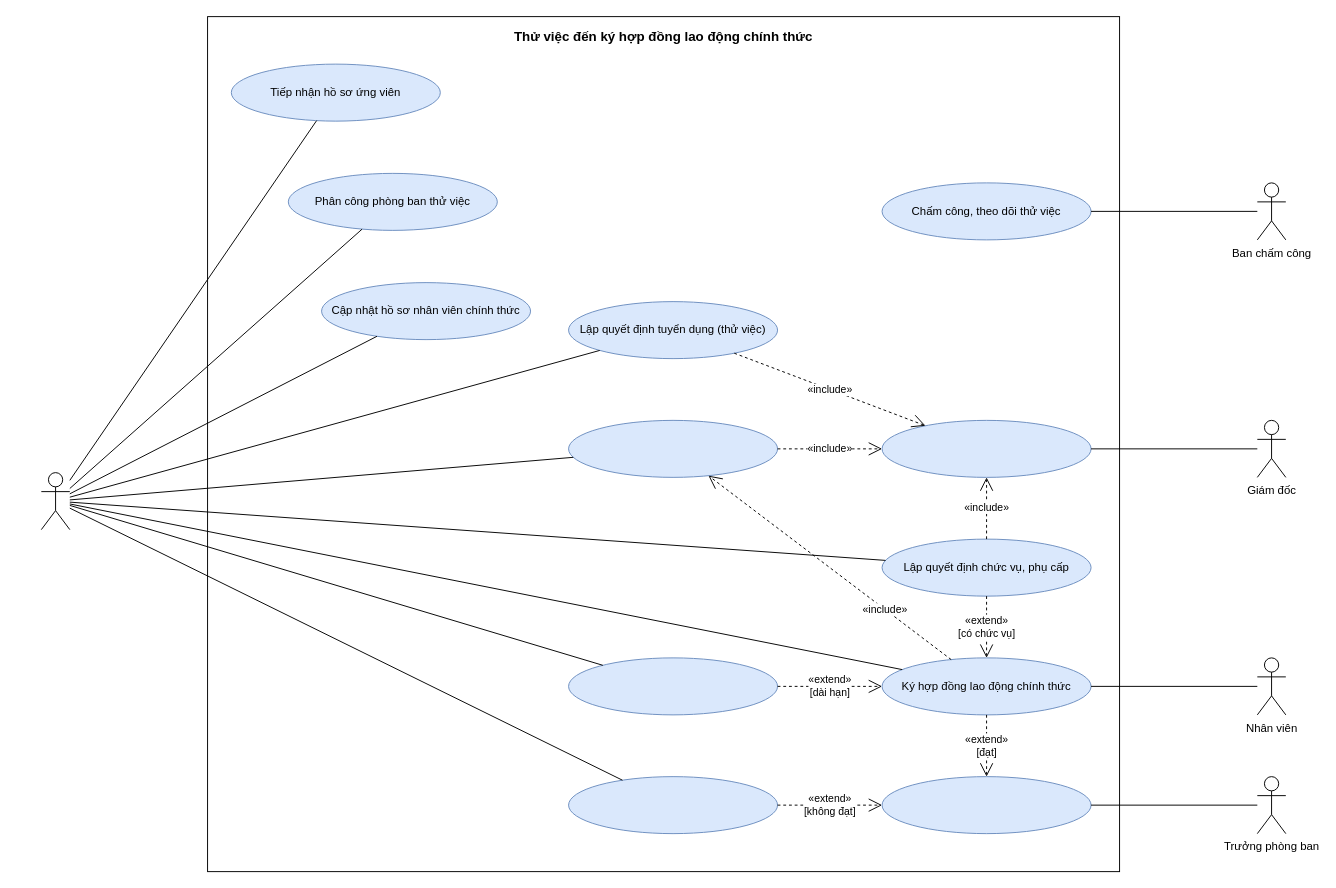
The diagram is 1336 pixels wide and 888 high, and some of its shapes have lost their labels. Each missing label, with the centre of its shape:
"Lập hồ sơ BHYT, BHXH" belongs at [673,686].
"Lập quyết định lương" belongs at [673,448].
"Phê duyệt, ký quyết định" belongs at [986,448].
"Phòng nhân sự" belongs at [55,501].
"Ra quyết định chấm dứt thử việc" belongs at [673,805].
"Đánh giá kết quả thử việc" belongs at [986,805].
